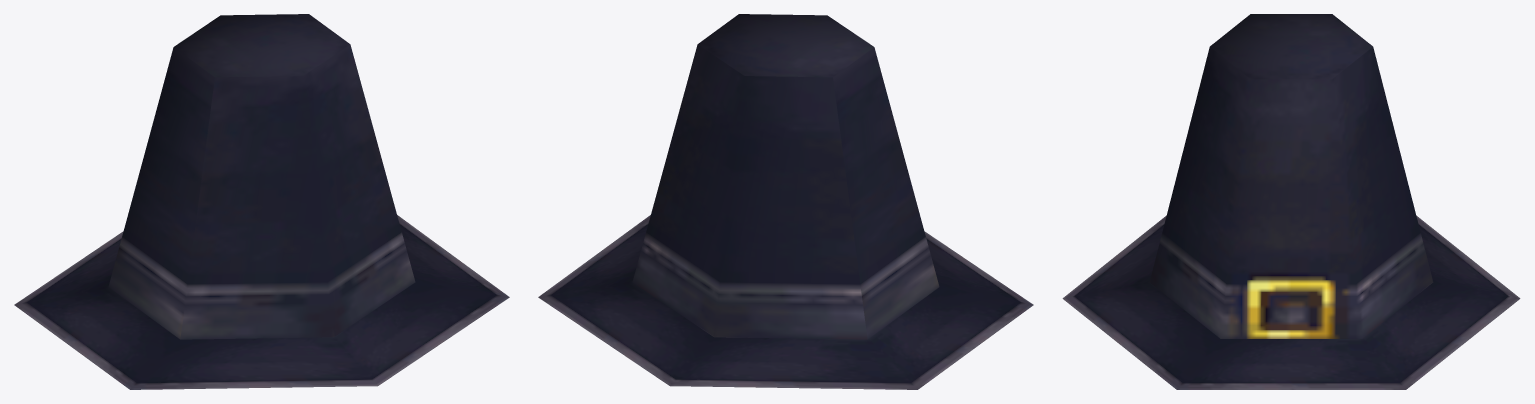
Rendered from g_pilgrimhat.obj.
The picture shows the model from 3 angles, left to right: view 1: azimuth 30°, elevation 25°; view 2: azimuth 150°, elevation 25°; view 3: azimuth 270°, elevation 25°; orthographic projection.
Visible parts, largest first — view 1: g_pilgrimhat; view 2: g_pilgrimhat; view 3: g_pilgrimhat.
Boxes of the visible parts, x1=… form: g_pilgrimhat: x1=14, y1=14, x2=509, y2=389; g_pilgrimhat: x1=538, y1=14, x2=1033, y2=389; g_pilgrimhat: x1=1062, y1=14, x2=1520, y2=389.
Bounding box in the file's own units: 0.6475 × 0.4162 × 0.6859.
1 material, 1 textured.
